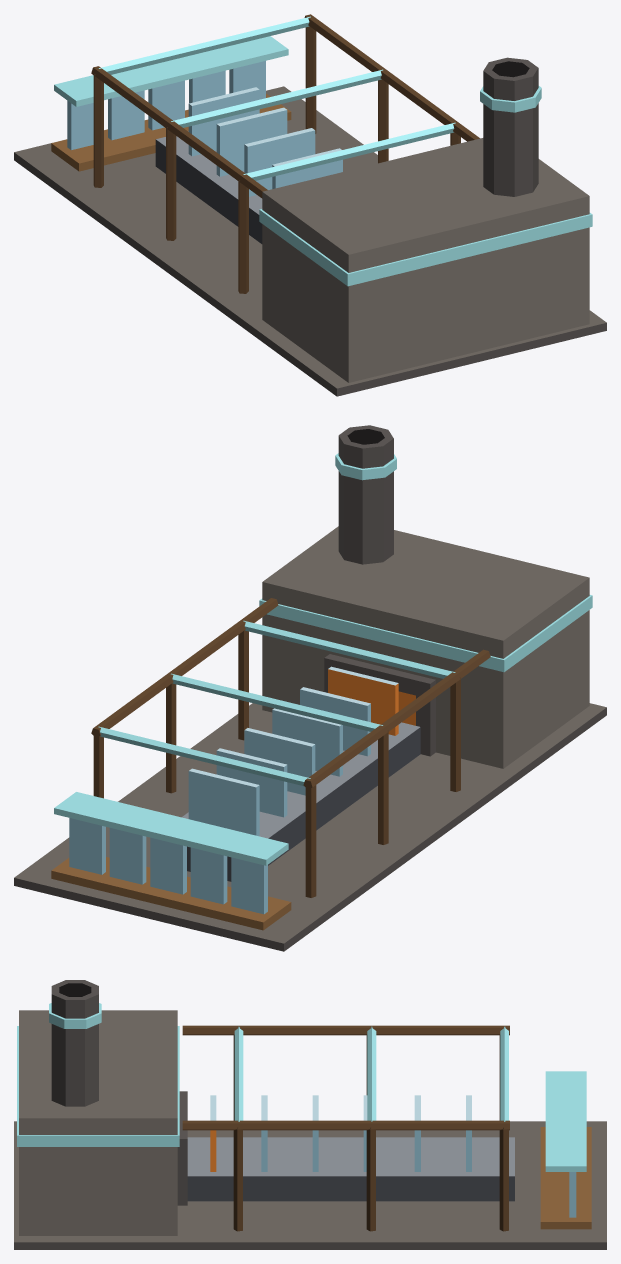
File: glassworks.obj
3 views of the same model, one above another, from view 1: azimuth 30°, elevation 25°; view 2: azimuth 150°, elevation 25°; view 3: azimuth 270°, elevation 25° (orthographic). The views are drawn at different scales.
Size of the model in its own units: 2.8 by 2.5 by 5.8.
